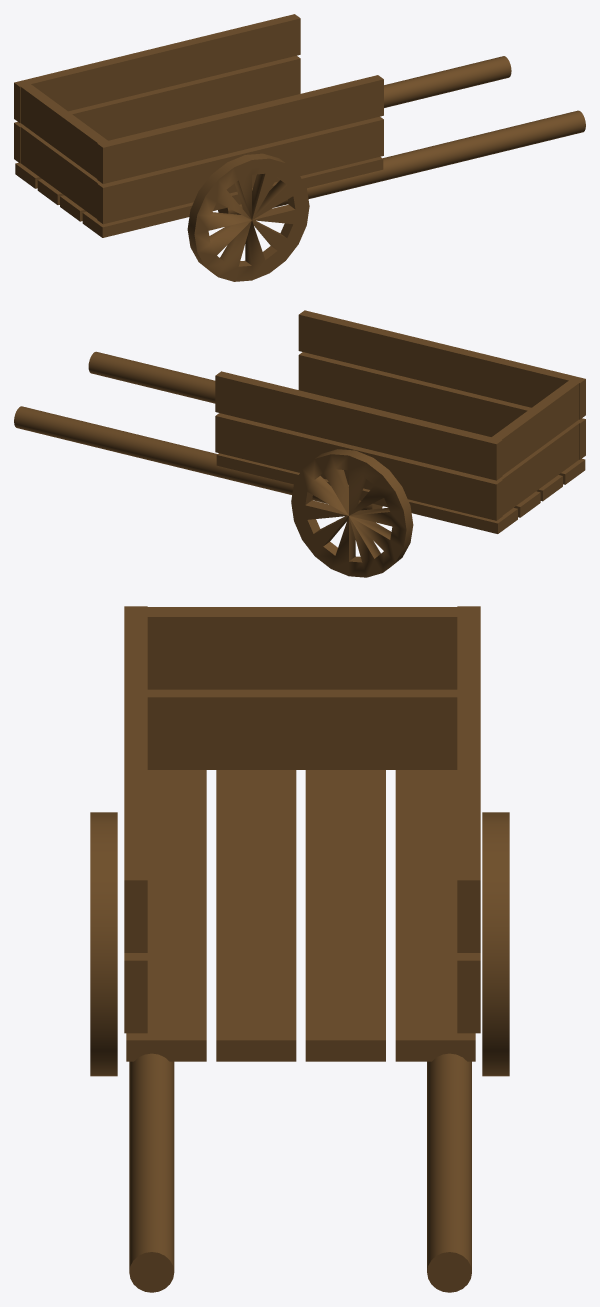
File: Cart.fbx
3 views of the same model, one above another, from view 1: azimuth 30°, elevation 25°; view 2: azimuth 150°, elevation 25°; view 3: azimuth 270°, elevation 25° (orthographic). The views are drawn at different scales.
Visible parts, largest first — view 1: Plank6, Wheel, Plank5, Plank7, Plank4, Handle1, Plank9, Plank8, Handle, Plank2, Plank, Plank1 (+1 smaller); view 2: Plank5, Wheel1, Plank6, Plank4, Plank7, Handle, Plank9, Plank8, Handle1, Plank, Plank1, Plank2 (+1 smaller); view 3: Plank9, Plank8, Plank1, Plank3, Plank, Plank2, Handle1, Handle, Plank5, Plank6, Wheel, Wheel1 (+2 smaller).
Part boxes in pixels (bbox=[...]): Plank6: bbox=[97, 75, 383, 183]; Wheel: bbox=[187, 153, 309, 281]; Plank5: bbox=[14, 14, 300, 122]; Plank7: bbox=[97, 116, 383, 224]; Plank4: bbox=[14, 55, 300, 163]; Handle1: bbox=[218, 110, 585, 214]; Plank9: bbox=[20, 84, 112, 178]; Plank8: bbox=[20, 125, 112, 218]; Handle: bbox=[384, 56, 511, 107]; Plank2: bbox=[82, 156, 383, 237]; Plank: bbox=[15, 162, 41, 188]; Plank1: bbox=[37, 179, 63, 204]; Plank5: bbox=[215, 371, 502, 480]; Wheel1: bbox=[291, 449, 413, 577]; Plank6: bbox=[298, 310, 585, 419]; Plank4: bbox=[215, 413, 502, 520]; Plank7: bbox=[298, 352, 585, 459]; Handle: bbox=[14, 406, 382, 510]; Plank9: bbox=[491, 377, 579, 474]; Plank8: bbox=[498, 422, 579, 515]; Handle1: bbox=[88, 351, 215, 403]; Plank: bbox=[216, 453, 517, 533]; Plank1: bbox=[514, 491, 540, 517]; Plank2: bbox=[559, 458, 585, 484]; Plank9: bbox=[128, 607, 459, 689]; Plank8: bbox=[147, 689, 457, 769]; Plank1: bbox=[305, 770, 385, 1061]; Plank3: bbox=[216, 770, 296, 1061]; Plank: bbox=[395, 770, 475, 1061]; Plank2: bbox=[126, 770, 206, 1061]; Handle1: bbox=[129, 1053, 174, 1292]; Handle: bbox=[427, 1053, 471, 1292]; Plank5: bbox=[457, 606, 480, 952]; Plank6: bbox=[124, 606, 147, 952]; Wheel: bbox=[90, 812, 117, 1076]; Wheel1: bbox=[482, 812, 509, 1076].
Size of the model in its own units: 8.4 by 2.67 by 3.15.
